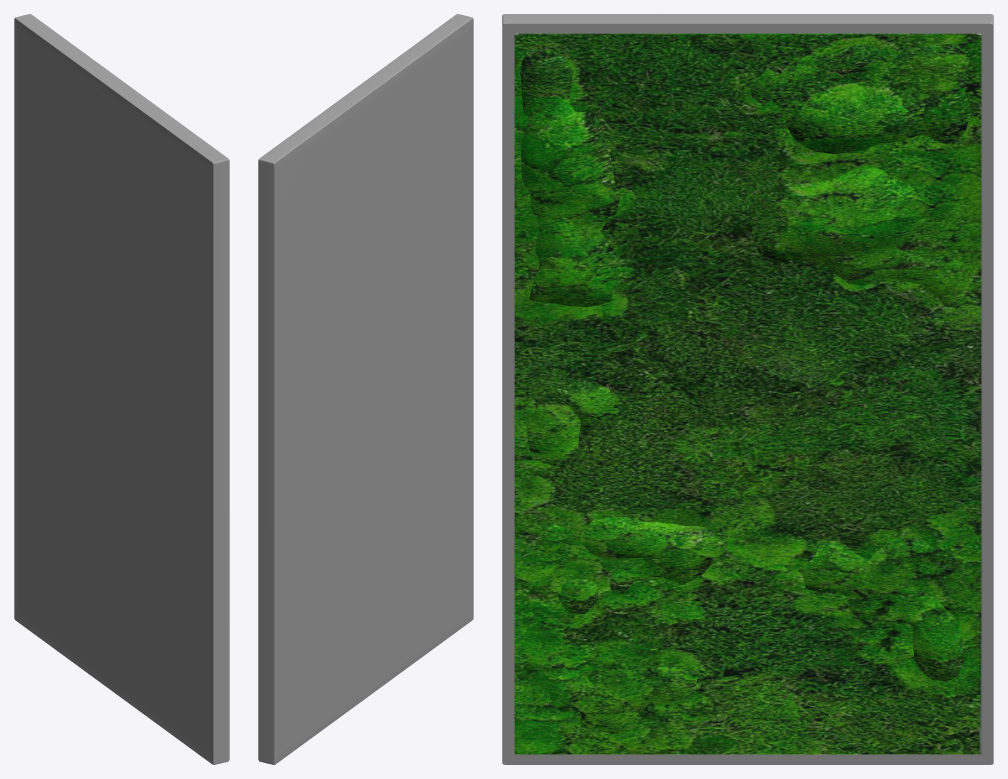
File: Moosbild_Hugelmoos_1000x600mm_white.fbx
3 renders of one model, left to right at view 1: azimuth 30°, elevation 25°; view 2: azimuth 150°, elevation 25°; view 3: azimuth 270°, elevation 25°, orthographic. The views are drawn at different scales.
Visible parts, largest first — view 1: edge; view 2: edge; view 3: moss_low, moss13, edge.
Boxes of the visible parts, x1,y1,x2,y2 form: edge: [14, 14, 229, 764]; edge: [258, 14, 473, 764]; moss_low: [514, 34, 981, 754]; moss13: [514, 33, 980, 733]; edge: [502, 14, 993, 764].
Bounding box in the file's own units: 5.06 × 100 × 60.
Materials: 2 (1 with a texture image).
